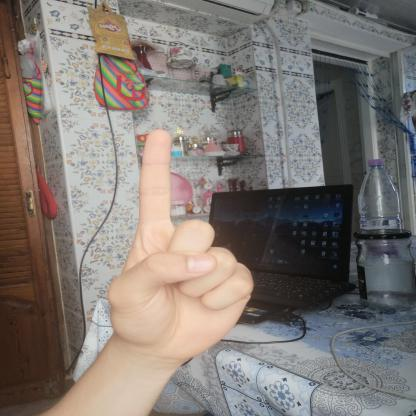BAA: (90, 122, 270, 370)
